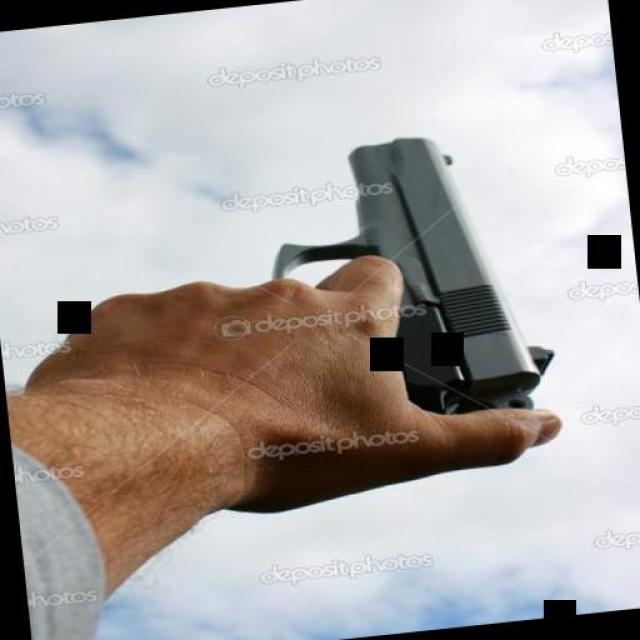gun: (60, 125, 562, 491)
